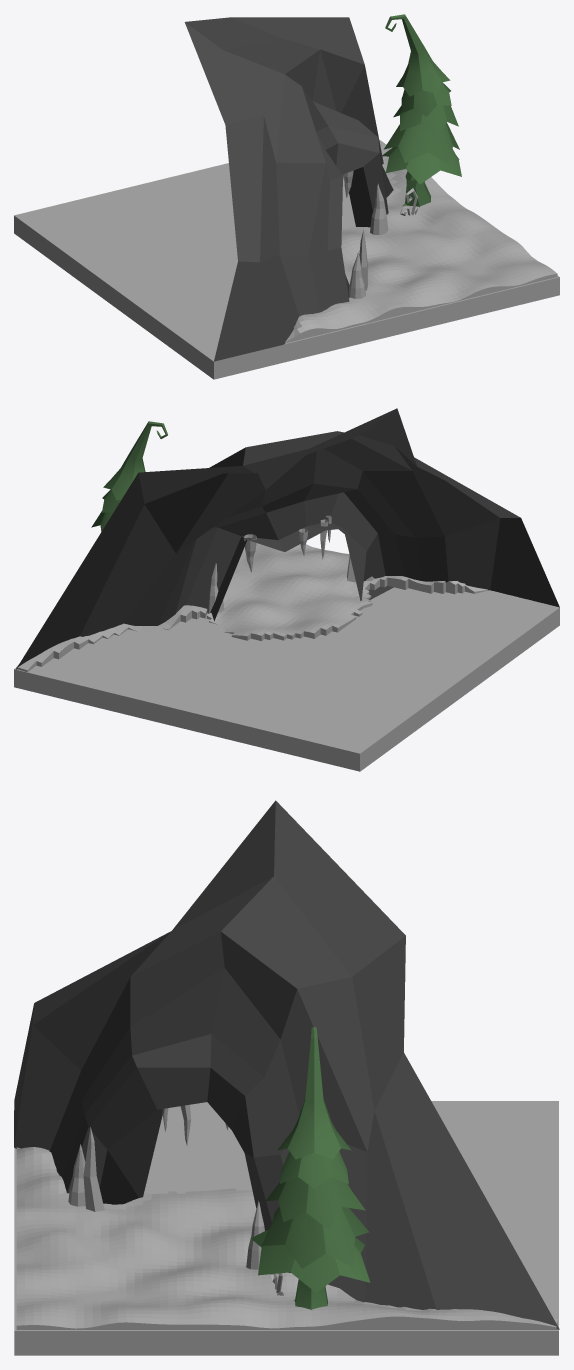
Rendered from Foret_grotte_ext.fbx.
3 renders of one model, top to bottom at view 1: azimuth 30°, elevation 25°; view 2: azimuth 150°, elevation 25°; view 3: azimuth 270°, elevation 25°, orthographic. The views are drawn at different scales.
Visible parts, largest first — view 1: Grotte1, sol10, sol43, sapin51, Stalagmite5, Stalagmite6; view 2: Grotte1, sol10, sol43, sapin51; view 3: Grotte1, sol43, sol10, sapin51, Stalagmite4, Stalagmite6.
Boxes of the visible parts, x1,y1,x2,y2 form: Grotte1: (184,17,393,361); sol10: (14,163,559,379); sol43: (285,140,557,343); sapin51: (381,14,461,207); Stalagmite5: (370,183,388,235); Stalagmite6: (349,252,365,298); Grotte1: (16,408,559,669); sol10: (14,547,559,771); sol43: (16,543,487,672); sapin51: (91,421,167,531); Grotte1: (14,800,559,1329); sol43: (16,1147,557,1329); sol10: (14,1101,558,1355); sapin51: (251,1026,370,1309); Stalagmite4: (83,1127,104,1211); Stalagmite6: (68,1144,85,1206).
Size of the model in its own units: 825 by 599 by 802.
